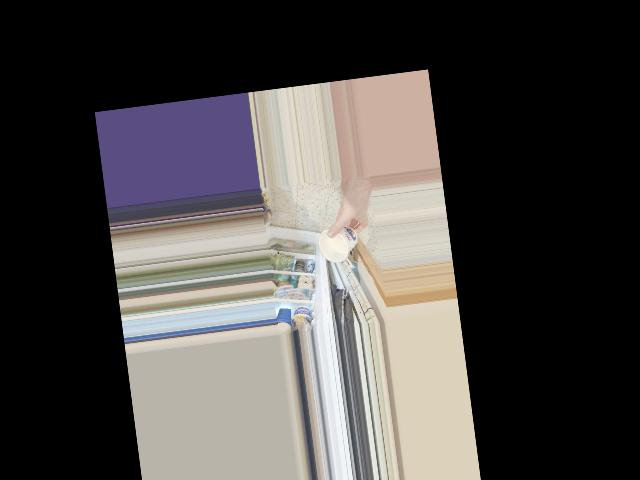cotage: (318, 222, 361, 264)
